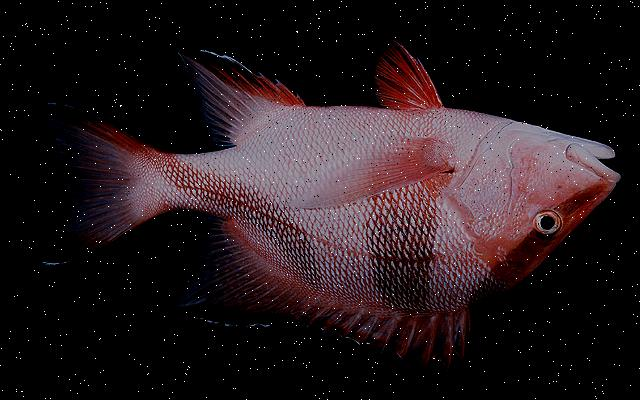Mulut: (556, 114, 638, 202)
Sirip Anal: (168, 34, 312, 154)
Sirip Dada: (262, 131, 470, 223)
Sirip Ekor: (20, 86, 160, 274)
Sirip Perut: (361, 28, 453, 126)
Sirip Punggung: (155, 198, 478, 386)
